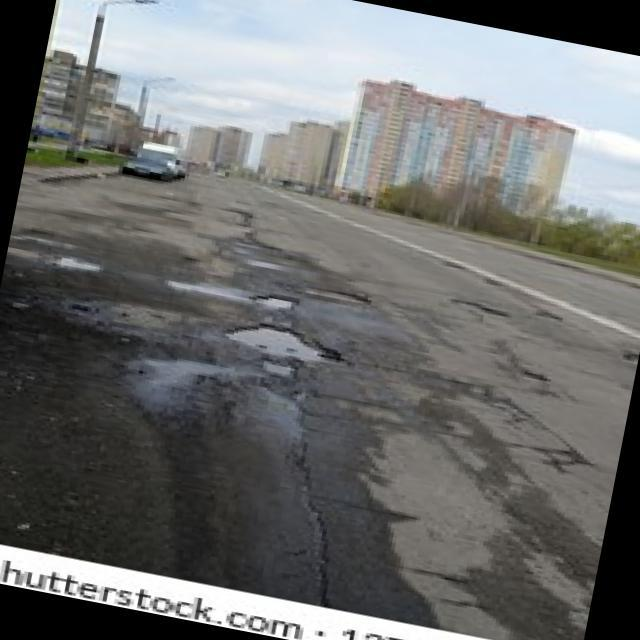Pothole: (224, 315, 340, 369), (304, 284, 372, 308), (248, 292, 296, 315), (450, 296, 505, 316), (258, 356, 300, 382), (621, 352, 639, 370)
